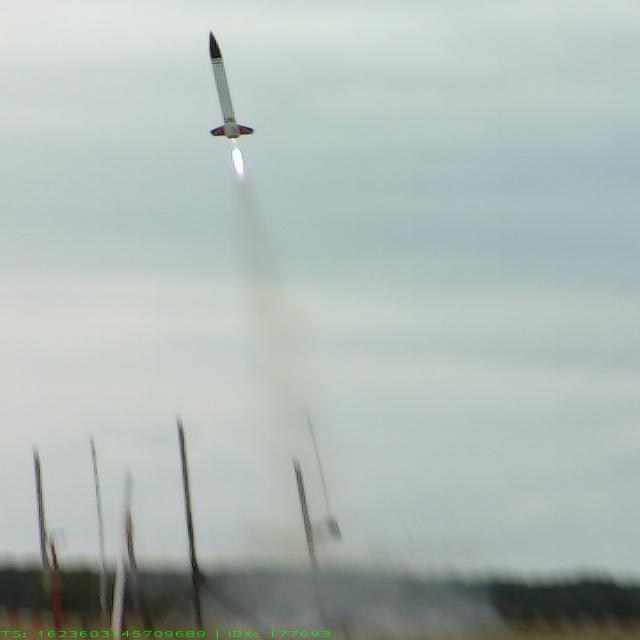Rocket: (207, 29, 254, 139)
